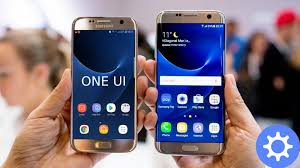samsung: (152, 6, 228, 158), (68, 11, 139, 155)
